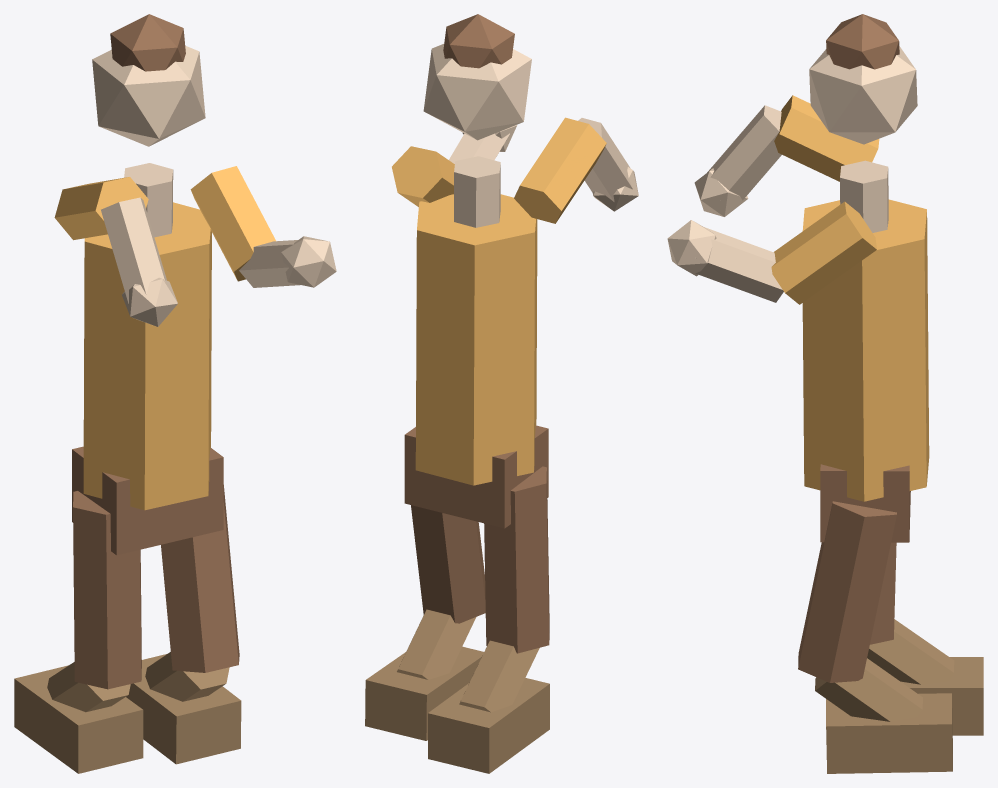
Rendered from pose_attack_1_27.glb.
The picture shows the model from 3 angles, left to right: view 1: azimuth 30°, elevation 25°; view 2: azimuth 150°, elevation 25°; view 3: azimuth 270°, elevation 25°; orthographic projection. The views are drawn at different scales.
Parts seen in each view (by area): view 1: pose; view 2: pose; view 3: pose.
Part boxes in pixels (x1,y1,x2,y2): pose: [14, 14, 336, 773]; pose: [365, 14, 638, 773]; pose: [667, 14, 983, 773].
Bounding box in the file's own units: 0.412 × 1.53 × 0.6032.
